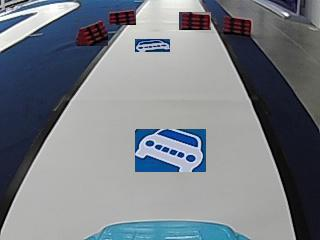bomb: (223, 17, 253, 35)
